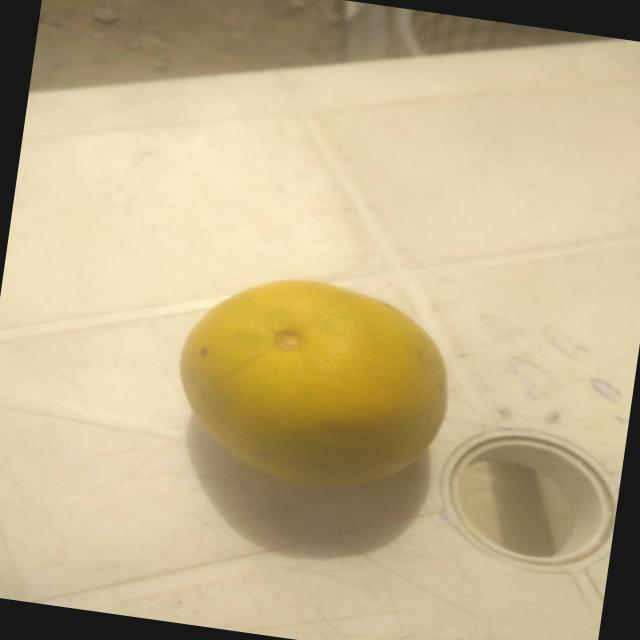Ripe orange: (166, 263, 467, 507)
